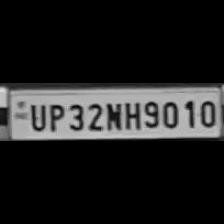0: (160, 97, 180, 128), (196, 98, 216, 128)
1: (180, 97, 196, 128)
2: (85, 99, 103, 130)
3: (65, 99, 84, 130)
9: (140, 97, 160, 129)
H: (122, 98, 142, 130)
N: (104, 100, 122, 130)
P: (46, 101, 64, 131)
U: (27, 100, 46, 130)
